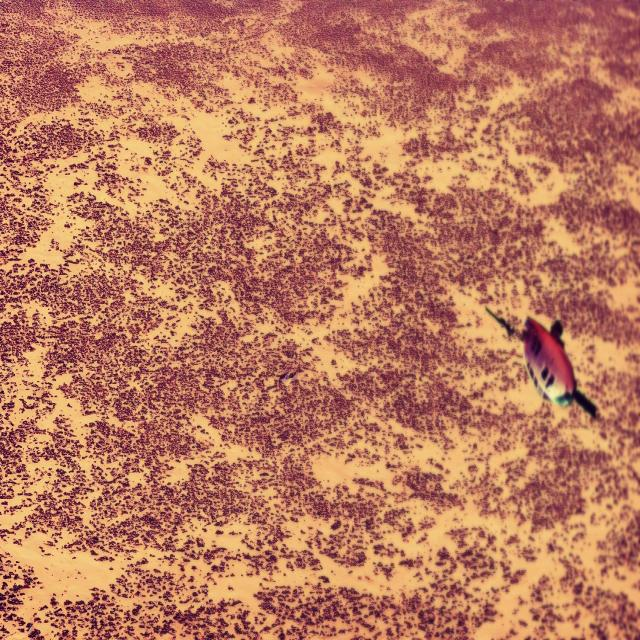airplane: (484, 304, 598, 420)
